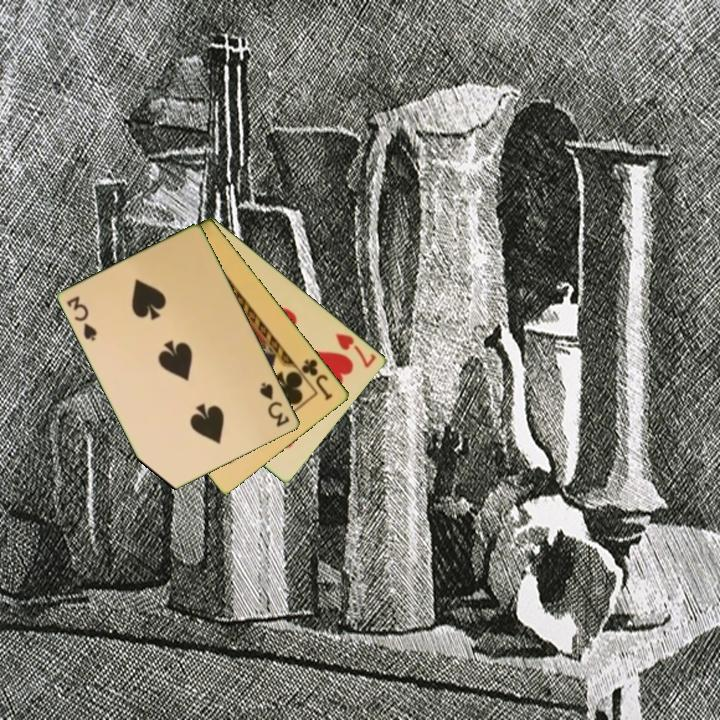3s: (63, 292, 100, 344), (256, 379, 293, 430)
7h: (332, 329, 380, 371)
Jc: (298, 356, 336, 403)
